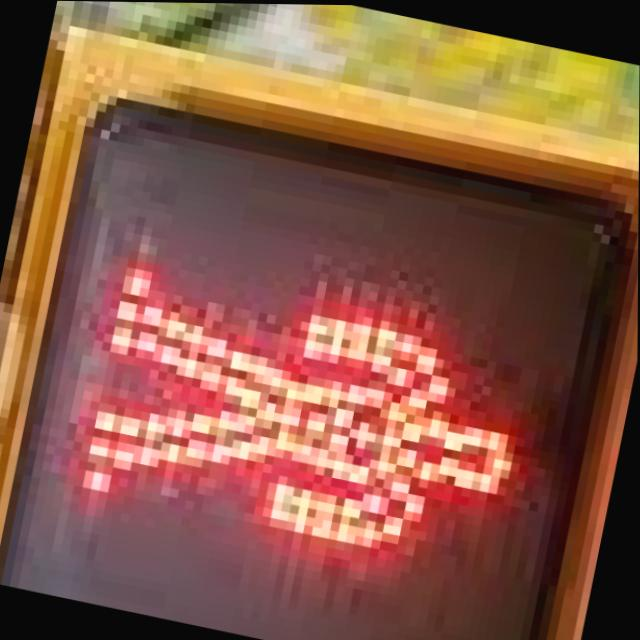red_light: (29, 189, 607, 635)
